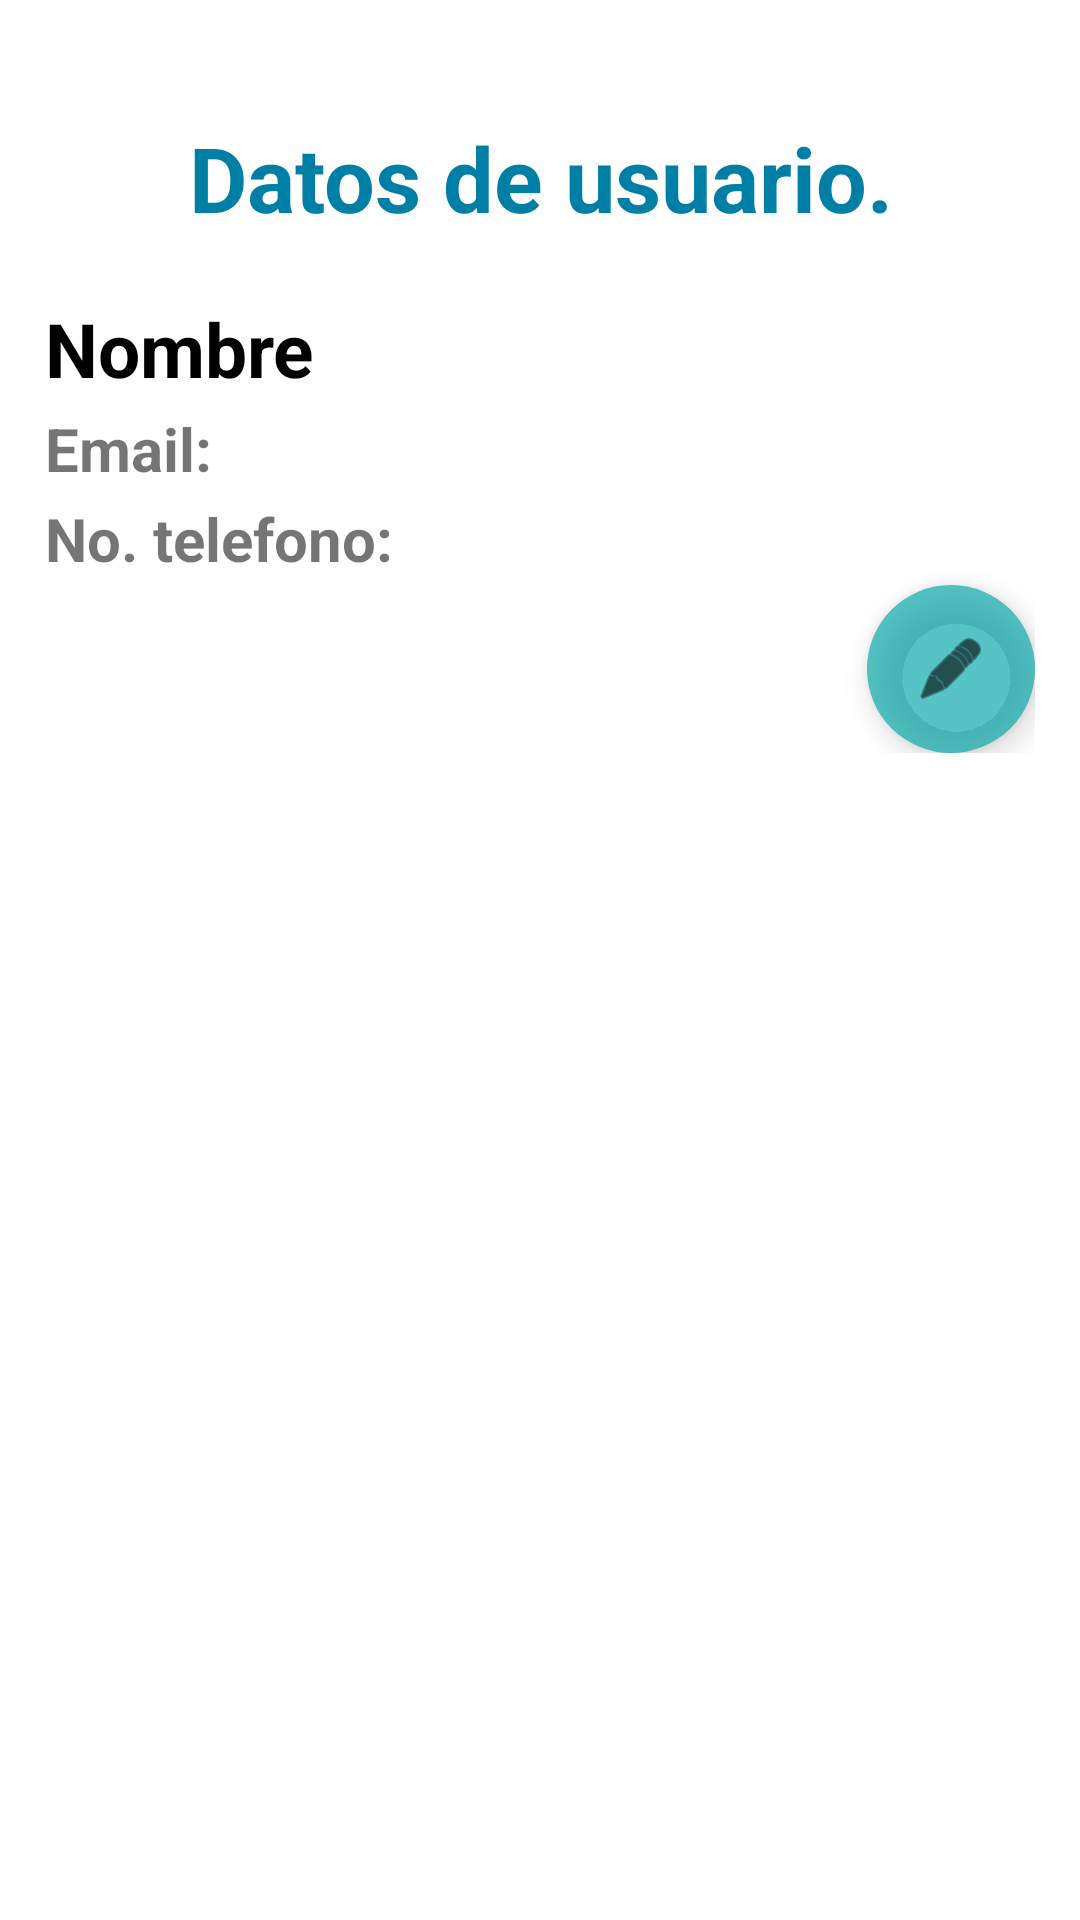

Named icons in this screenshot (1080px×1920px) and their bounding boxes, (x1, y1, x2, y2):
edit: (867, 585, 1035, 753)
